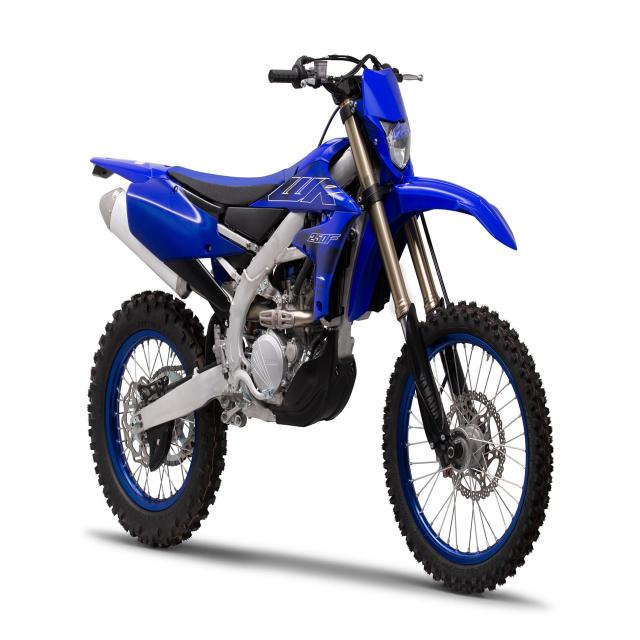Motorcycle: (88, 52, 553, 593)
